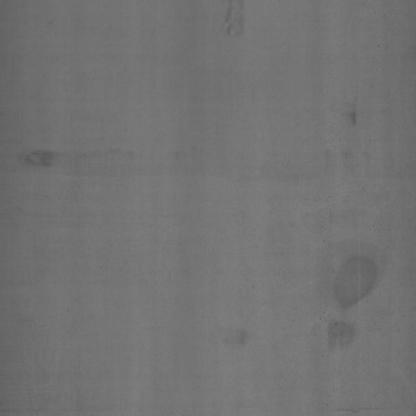oil_spot: (322, 227, 385, 357), (24, 132, 74, 174)
water_spot: (209, 2, 251, 43)
